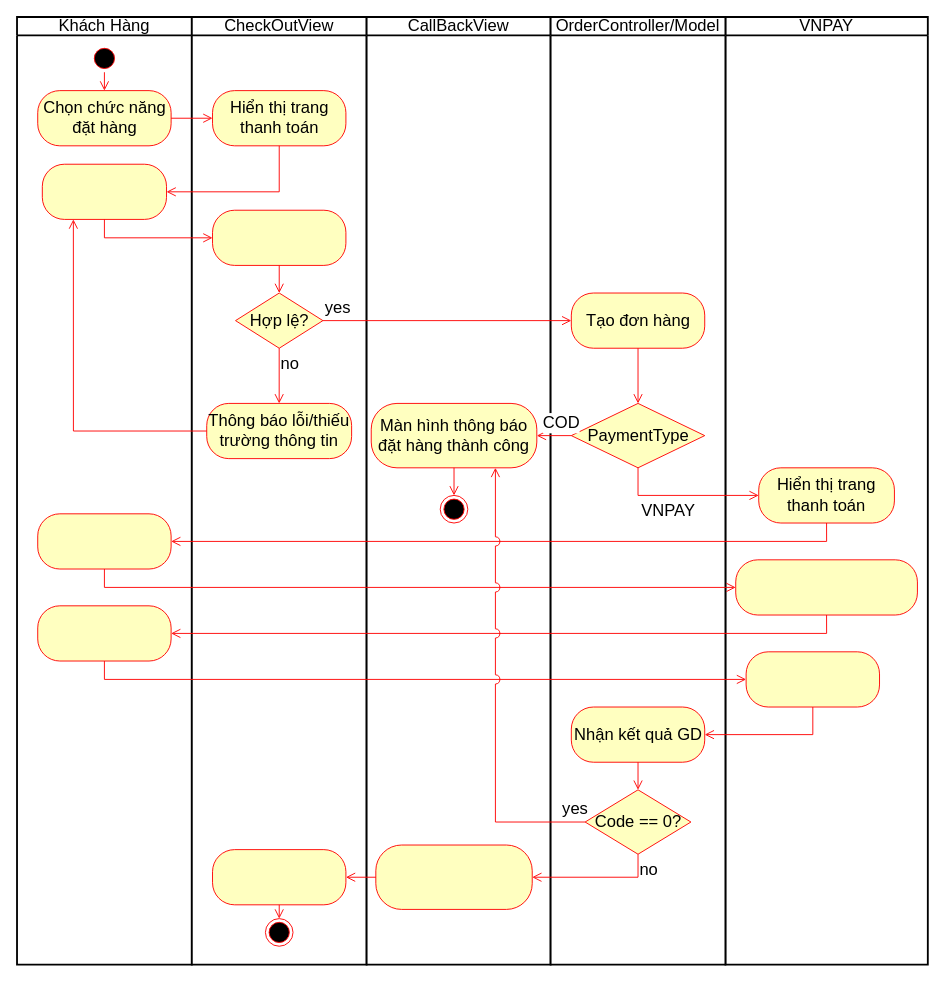
This 944x981 diagram has some shape labels left out. Here are the shapes that lost their labels. From the top down, the centre of each, then its label:
the point at 104,191: Điền thông tin đơn hàng
the point at 279,237: Kiểm tra các trường thông tin
the point at 104,541: Nhập thông tin thẻ
the point at 826,587: Kiểm tra giao dịch/ Hiển thị trang OTP
the point at 104,633: Nhập OTP
the point at 812,679: Xác thực OTP Xác thực GD
the point at 279,877: Quay lại trang chủ
the point at 453,876: Màn hình thông báo thanh toán thất bại
